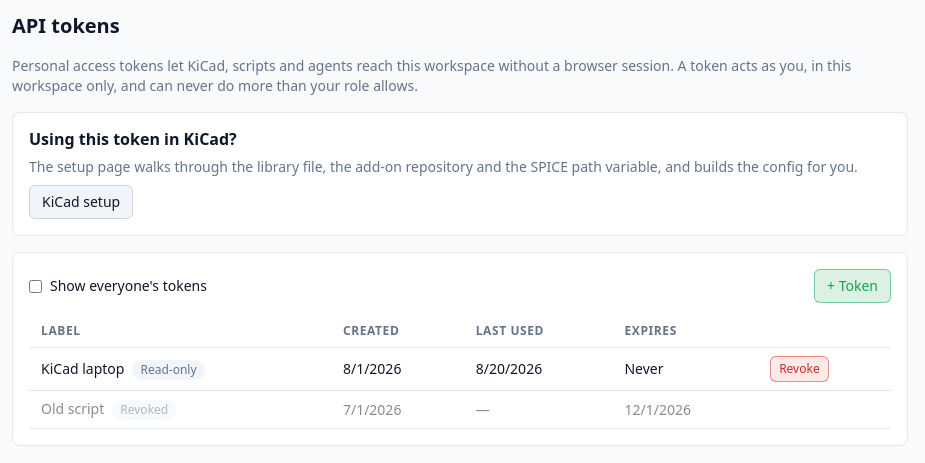
ApiTokensSettings › lets an admin list everyone's tokens and requests ?all=true
What coordinates should you click on to do the following:
click the checkbox labelled "Show everyone's tokens"
I would click on:
 (36, 286)
Its box is [29,280,42,292].
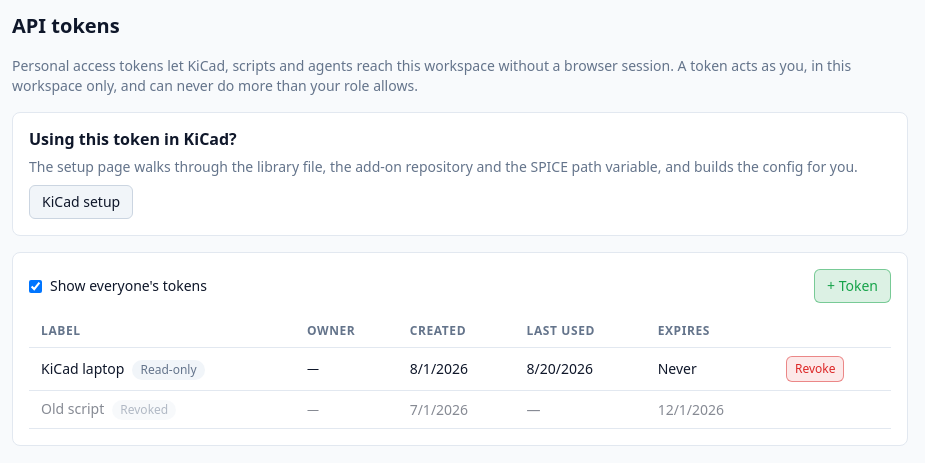
Now the column heading "Owner" is shown, box [295,315,398,348]
